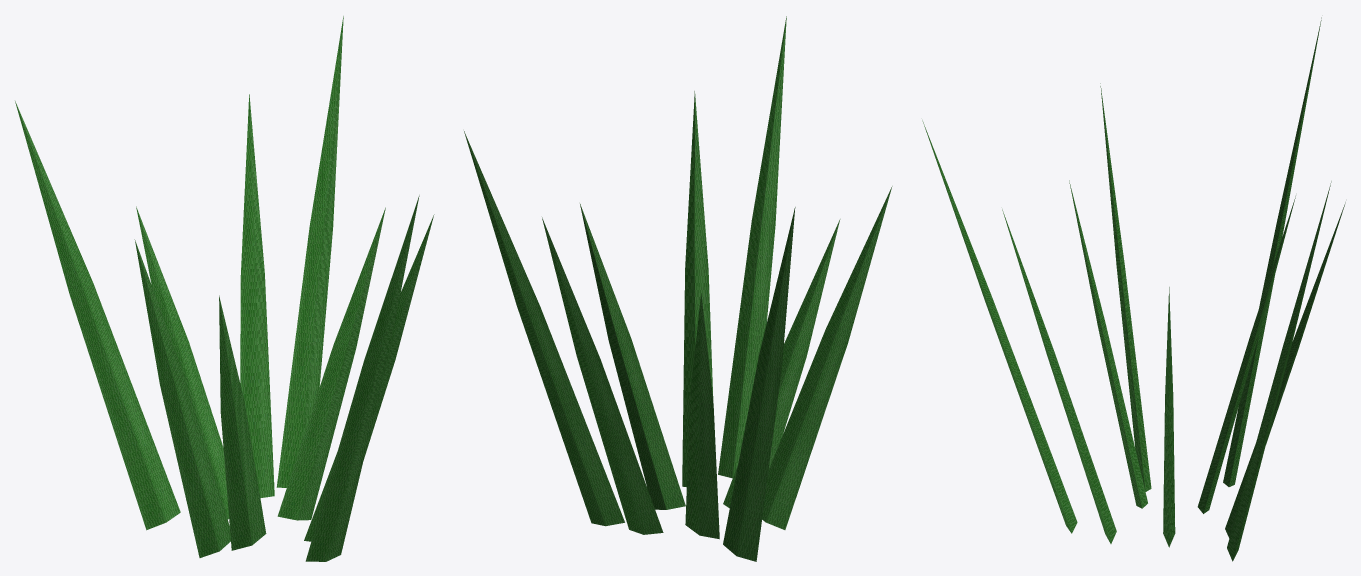
Rendered from mato_alto.glb.
3 views of the same model, side by side, from view 1: azimuth 30°, elevation 25°; view 2: azimuth 150°, elevation 25°; view 3: azimuth 270°, elevation 25° (orthographic). The views are drawn at different scales.
Parts seen in each view (by area): view 1: mato_alto; view 2: mato_alto; view 3: mato_alto.
Part boxes in pixels (box(x1,y1,x2,y2)): mato_alto: box(15, 16, 434, 561); mato_alto: box(464, 16, 892, 561); mato_alto: box(922, 17, 1345, 561).
Bounding box in the file's own units: 0.79 × 0.9481 × 0.8617.
Materials: 1 (1 with a texture image).
